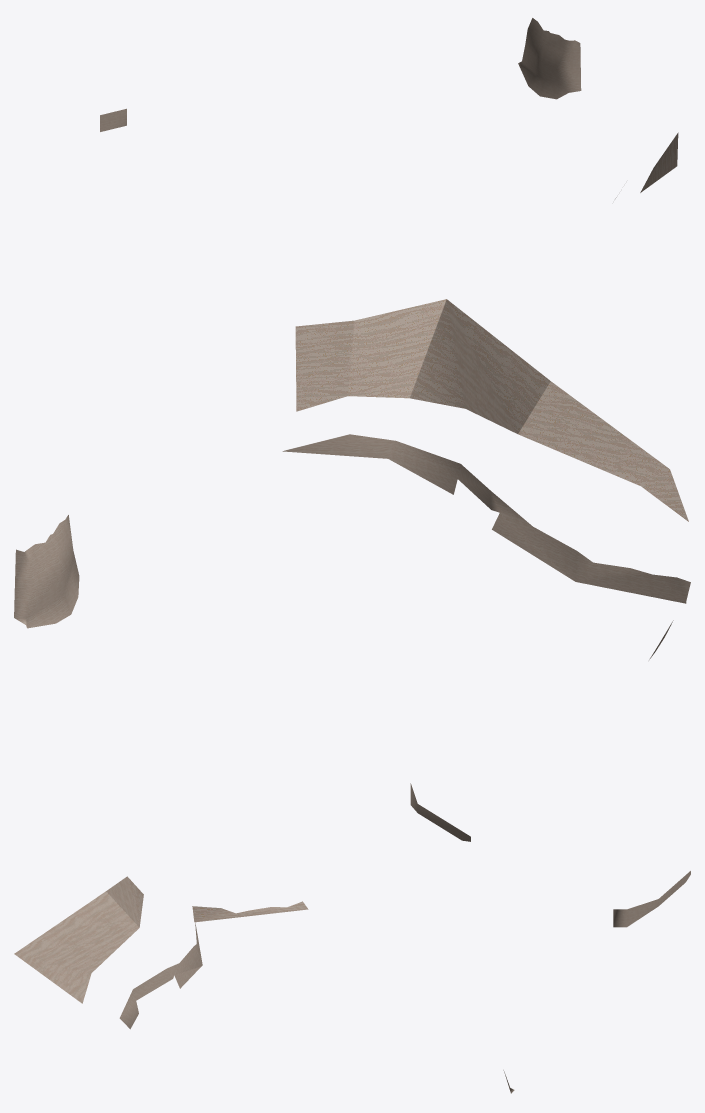
Rendered from kd_connection_town-ground_surface_5_20.glb.
3 renders of one model, top to bottom at view 1: azimuth 30°, elevation 25°; view 2: azimuth 150°, elevation 25°; view 3: azimuth 270°, elevation 25°, orthographic. The views are drawn at different scales.
Parts seen in each view (by area): view 1: kd_connection_town-ground_surface_5_20; view 2: kd_connection_town-ground_surface_5_20; view 3: kd_connection_town-ground_surface_5_20.
Part boxes in pixels (x1,y1,x2,y2): kd_connection_town-ground_surface_5_20: (100, 18, 678, 198); kd_connection_town-ground_surface_5_20: (14, 299, 690, 841); kd_connection_town-ground_surface_5_20: (14, 871, 690, 1093).
Bounding box in the file's own units: 102 × 23.31 × 131.
1 material, 1 textured.
